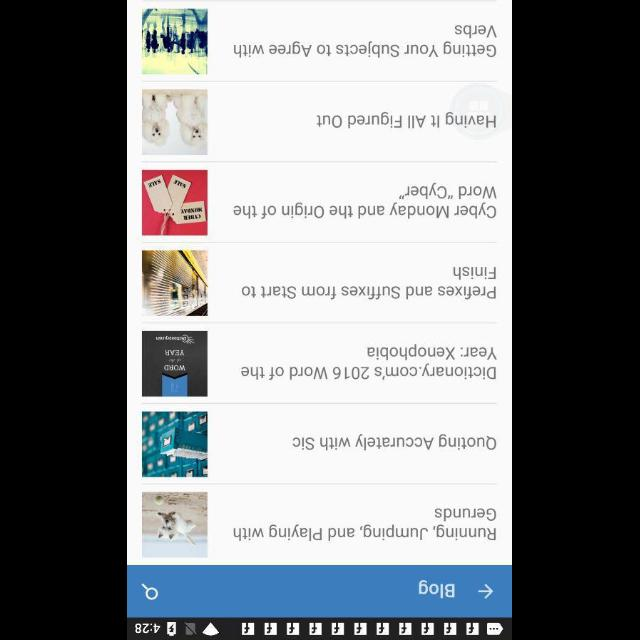icon: (142, 582, 160, 600), (478, 582, 496, 598)
image: (142, 9, 208, 75), (143, 89, 209, 155), (143, 331, 209, 397), (142, 411, 208, 477), (144, 169, 208, 235), (144, 250, 208, 316), (144, 492, 208, 556)
text: (234, 182, 496, 220), (242, 344, 498, 381), (242, 266, 496, 300), (235, 26, 498, 58), (234, 508, 496, 540), (293, 434, 497, 451), (318, 112, 497, 128), (418, 580, 456, 598)
toolbar: (128, 564, 512, 616)
uppertaskbar: (128, 617, 512, 639)
